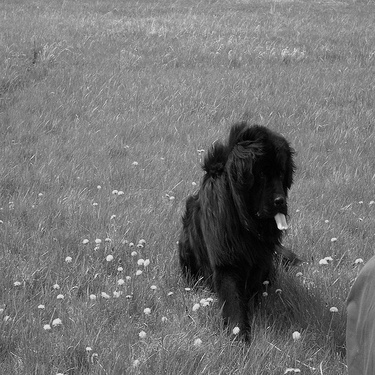dog: (152, 112, 309, 352)
